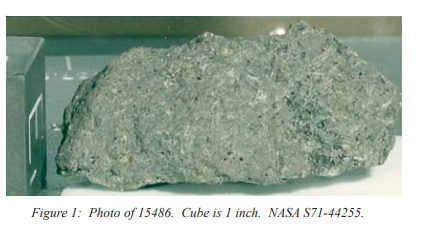Basalt: (43, 41, 400, 193)
